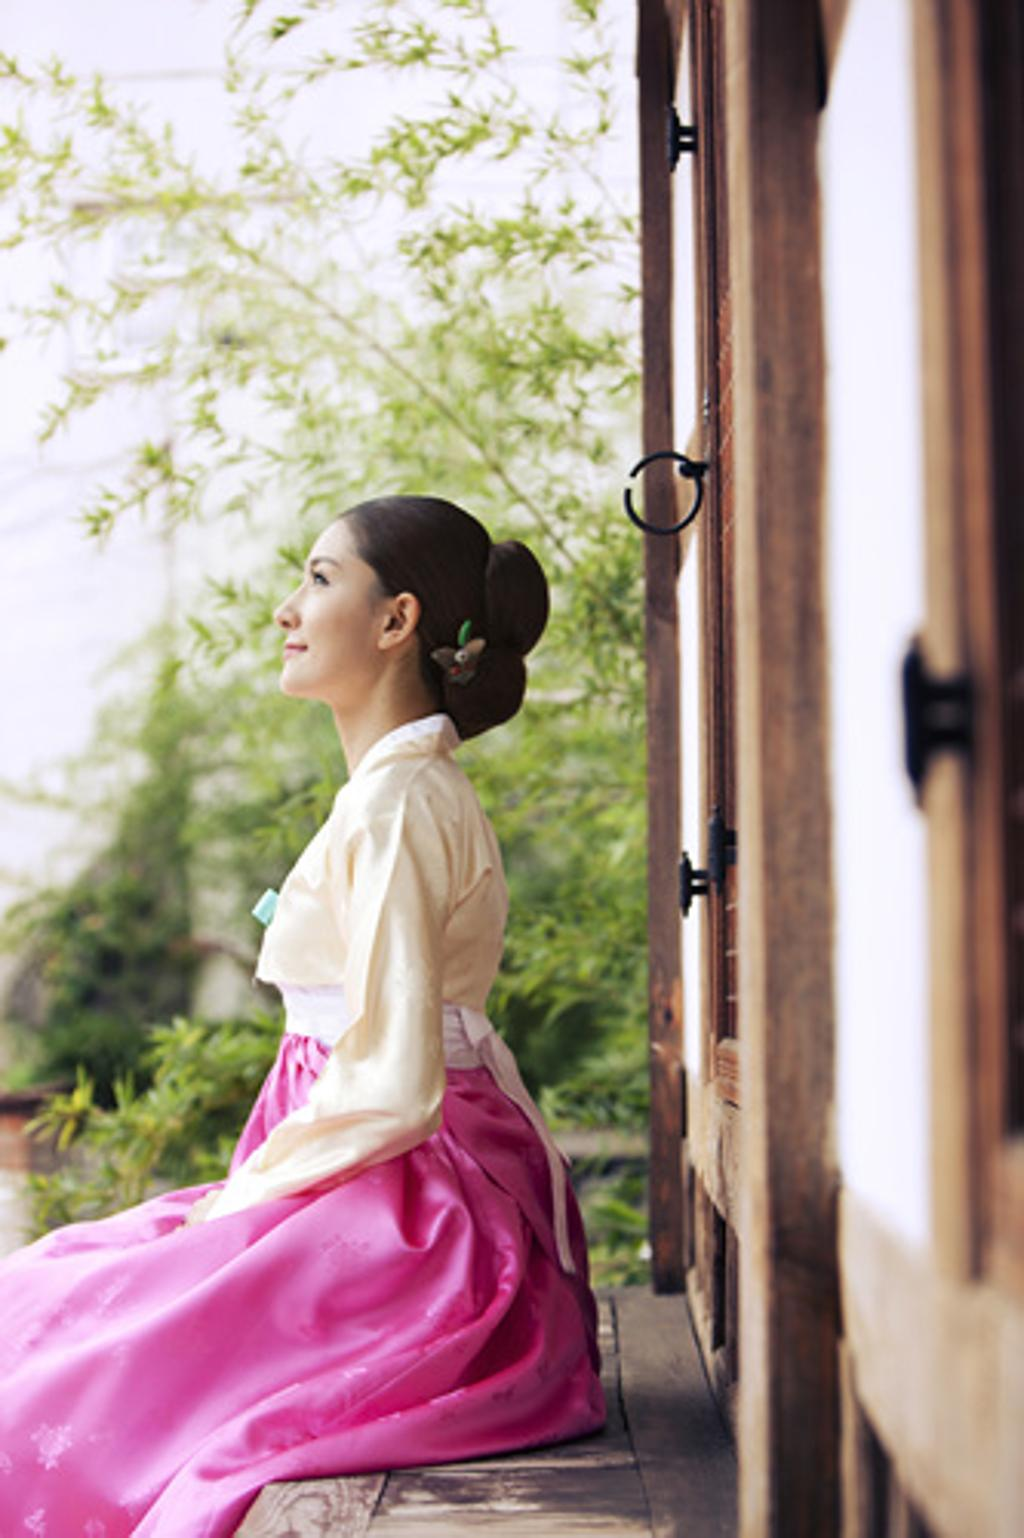face: (279, 498, 384, 696)
